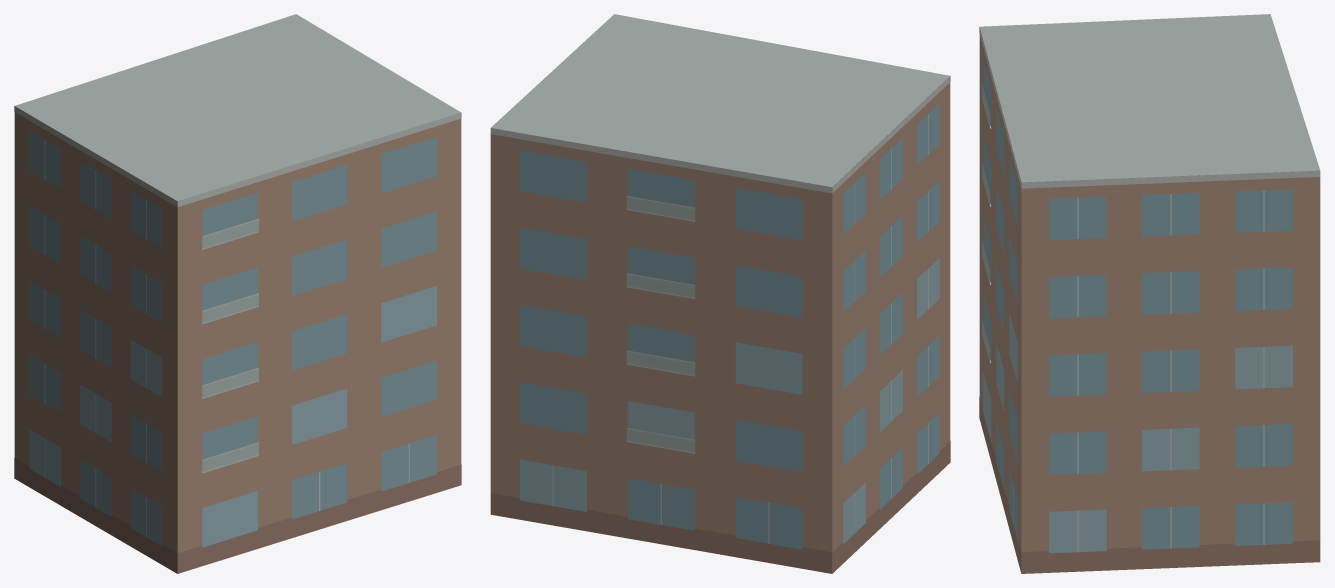
File: survey-upis-32655297.glb
The picture shows the model from 3 angles, left to right: view 1: azimuth 30°, elevation 25°; view 2: azimuth 150°, elevation 25°; view 3: azimuth 270°, elevation 25°; orthographic projection. The views are drawn at different scales.
Visible parts, largest first — view 1: survey-upis-32655297.tmp; view 2: survey-upis-32655297.tmp; view 3: survey-upis-32655297.tmp.
Boxes of the visible parts, left/top/right/bottom form: survey-upis-32655297.tmp: left=14, top=14, right=461, bottom=573; survey-upis-32655297.tmp: left=490, top=14, right=950, bottom=573; survey-upis-32655297.tmp: left=979, top=14, right=1320, bottom=573.
Bounding box in the file's own units: 14.08 × 15.25 × 12.04.
